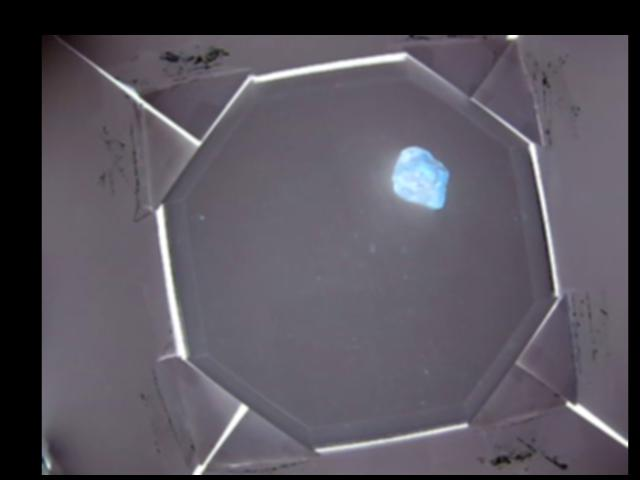Brisk: (391, 143, 448, 211)
